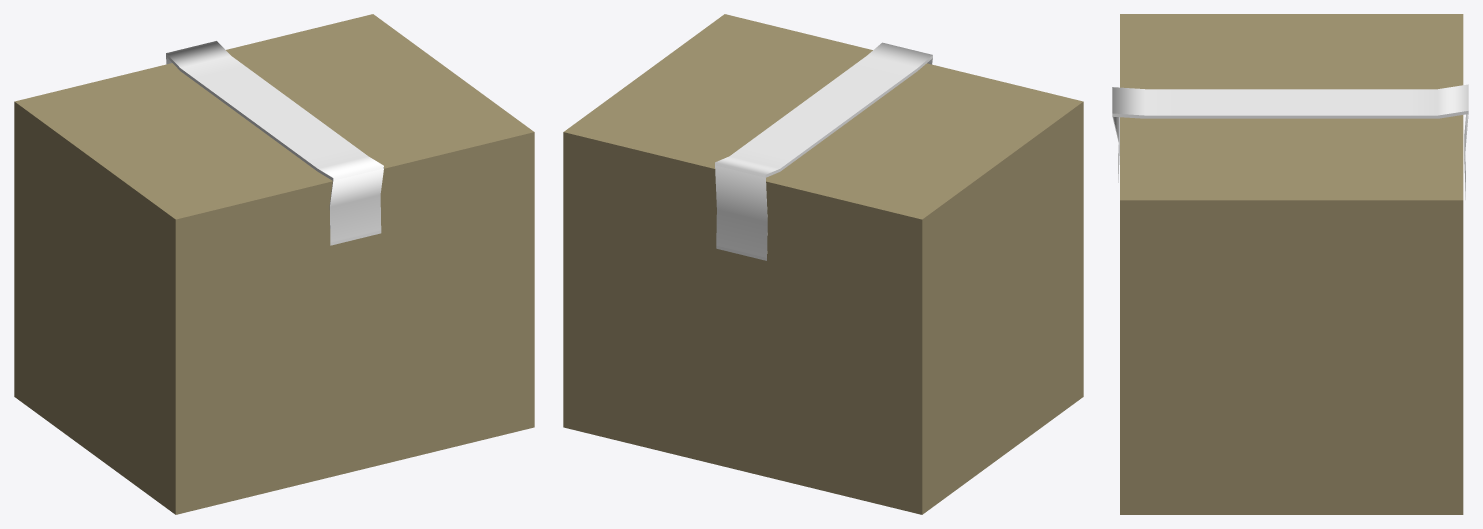
File: PS_CardboardBoxWTape2_14_DF.fbx
3 renders of one model, left to right at view 1: azimuth 30°, elevation 25°; view 2: azimuth 150°, elevation 25°; view 3: azimuth 270°, elevation 25°, orthographic. The views are drawn at different scales.
Parts seen in each view (by area): view 1: CardboardBoxWTape2, Tape2; view 2: CardboardBoxWTape2, Tape2; view 3: CardboardBoxWTape2, Tape2.
Boxes of the visible parts, x1=… form: CardboardBoxWTape2: x1=14, y1=14, x2=534, y2=514; Tape2: x1=166, y1=41, x2=383, y2=245; CardboardBoxWTape2: x1=563, y1=14, x2=1083, y2=514; Tape2: x1=715, y1=42, x2=932, y2=260; CardboardBoxWTape2: x1=1120, y1=14, x2=1463, y2=514; Tape2: x1=1112, y1=84, x2=1468, y2=199.
Bounding box in the file's own units: 0.2181 × 0.1769 × 0.1761.
